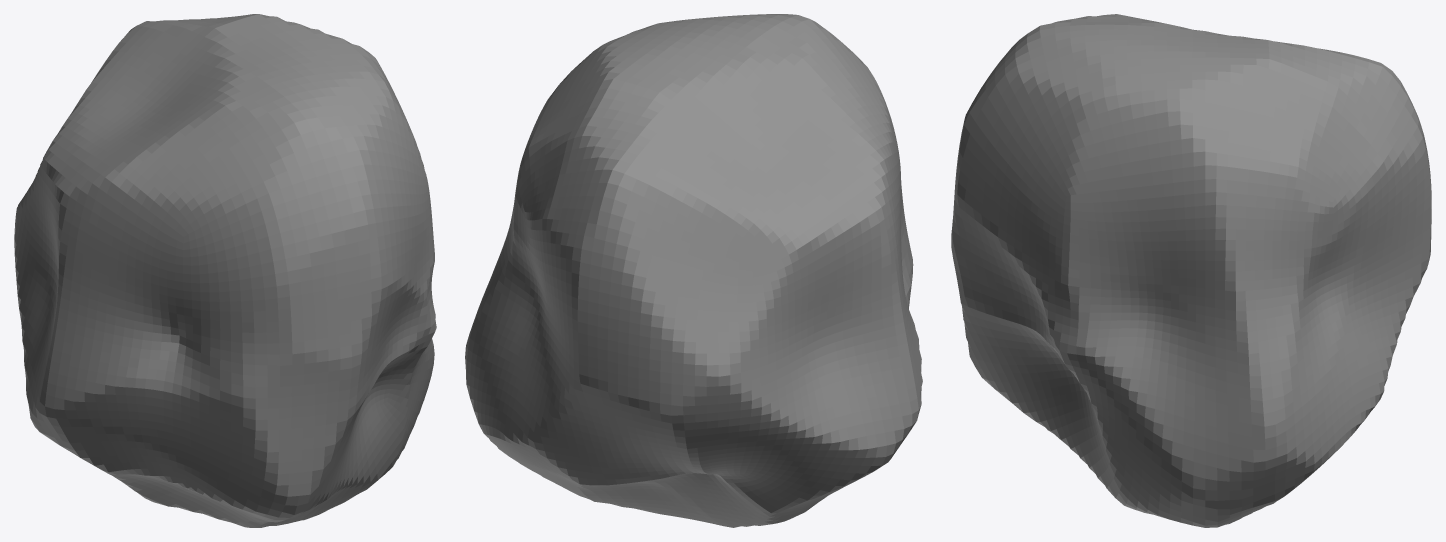
File: stone2.fbx
The picture shows the model from 3 angles, left to right: view 1: azimuth 30°, elevation 25°; view 2: azimuth 150°, elevation 25°; view 3: azimuth 270°, elevation 25°; orthographic projection.
Visible parts, largest first — view 1: Cube.002; view 2: Cube.002; view 3: Cube.002.
Boxes of the visible parts, x1,y1,x2,y2 form: Cube.002: (14,14,436,527); Cube.002: (465,14,922,527); Cube.002: (951,14,1431,527).
Bounding box in the file's own units: 197 × 215 × 203.
Materials: 1 (1 with a texture image).
